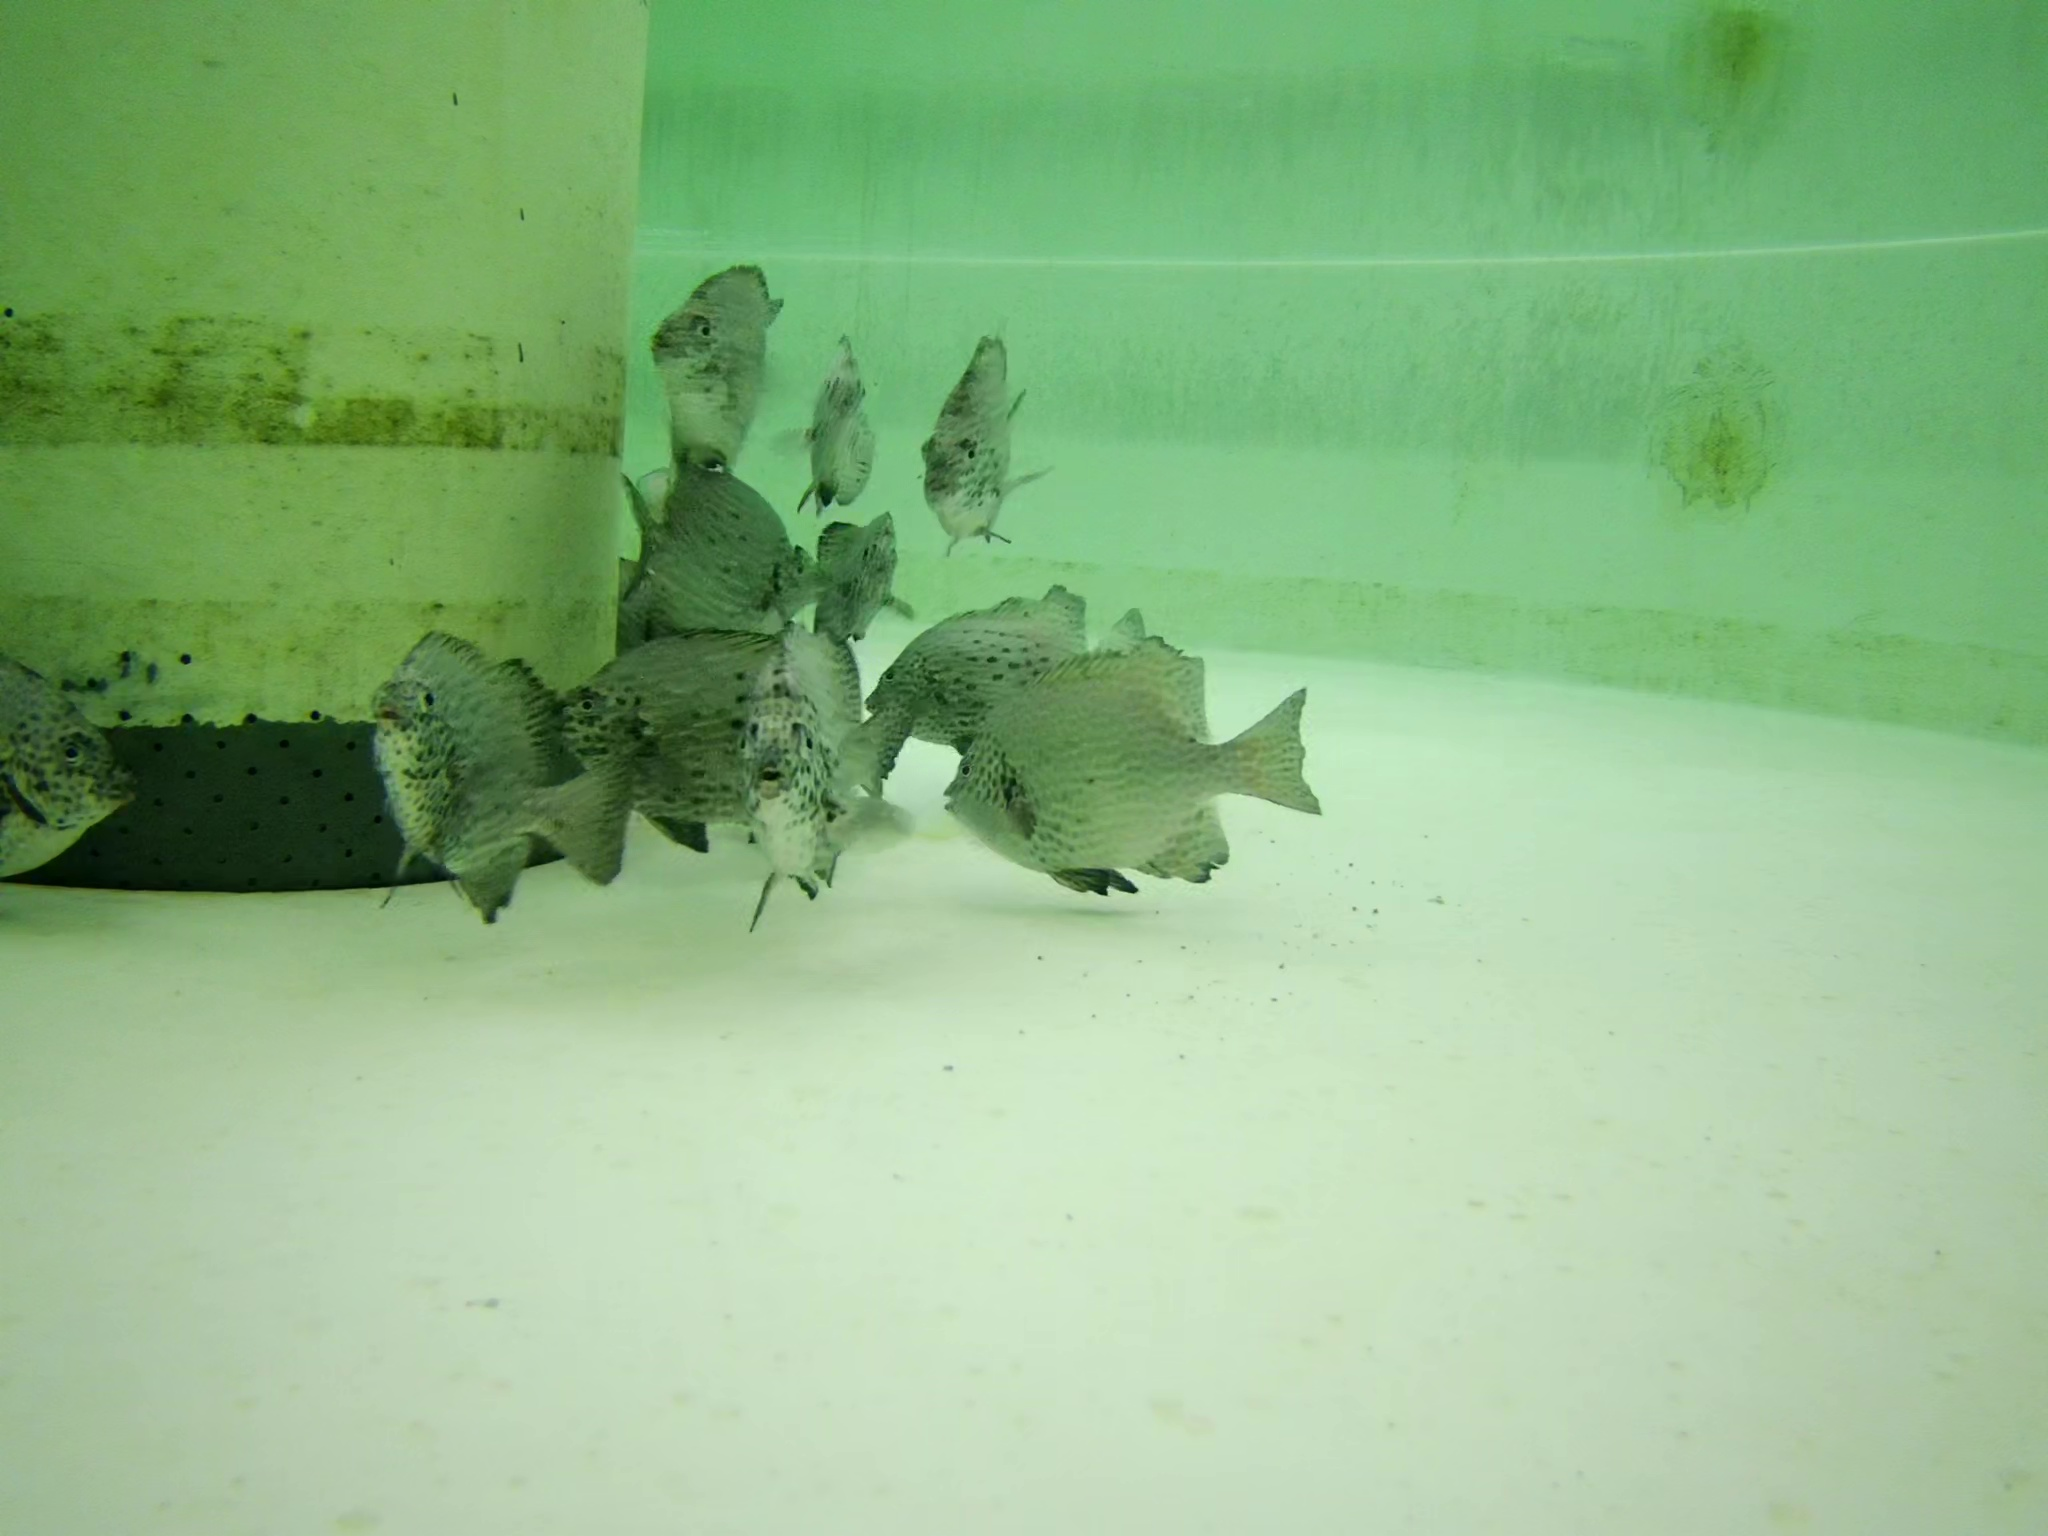fish: (947, 636, 1324, 905), (366, 626, 629, 913), (566, 626, 779, 844), (847, 611, 1151, 752), (619, 463, 813, 639), (914, 332, 1055, 545), (648, 255, 785, 463), (5, 652, 129, 881), (779, 629, 911, 803), (764, 723, 842, 904), (803, 350, 868, 510), (814, 518, 895, 632)
